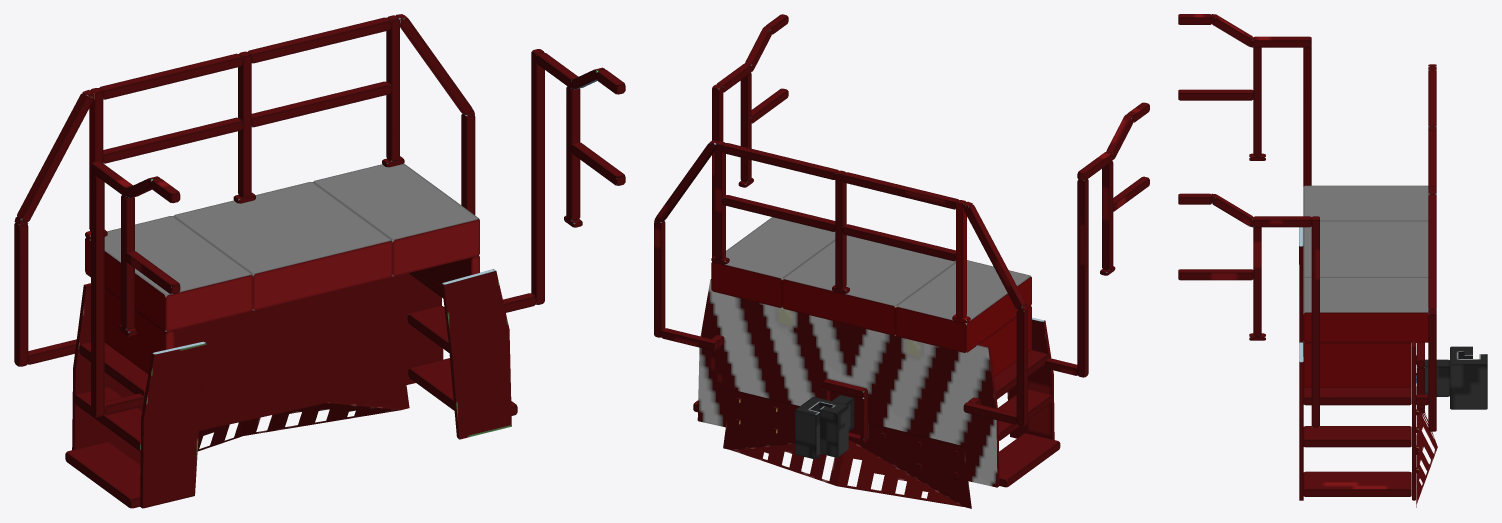
The model's file is df7g_cowcatcher_a.obj.
3 renders of one model, left to right at view 1: azimuth 30°, elevation 25°; view 2: azimuth 150°, elevation 25°; view 3: azimuth 270°, elevation 25°, orthographic. The views are drawn at different scales.
Parts seen in each view (by area): view 1: df7g_cowcatcher_a; view 2: df7g_cowcatcher_a; view 3: df7g_cowcatcher_a.
Part boxes in pixels (<box>): df7g_cowcatcher_a: <box>14,14,625,508</box>; df7g_cowcatcher_a: <box>654,14,1149,508</box>; df7g_cowcatcher_a: <box>1178,14,1487,507</box>.
Bounding box in the file's own units: 3.26 × 2.82 × 2.32.
